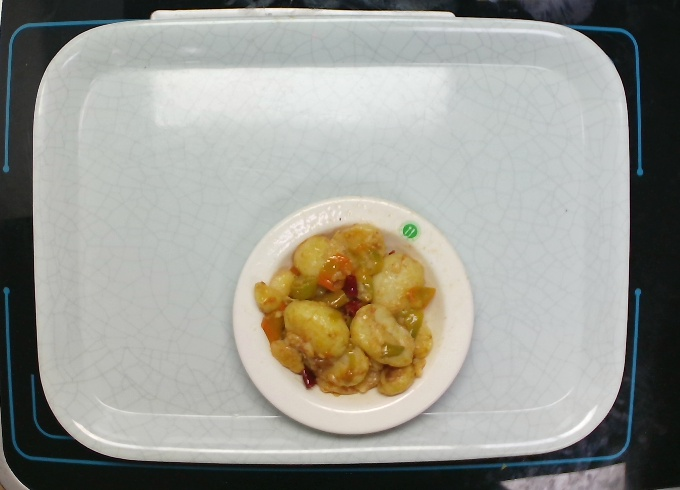WCQzf-Kuan_Bian_Yuan_Die: (232, 194, 477, 438)
